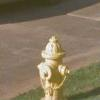Hydrant: (34, 31, 76, 100)
